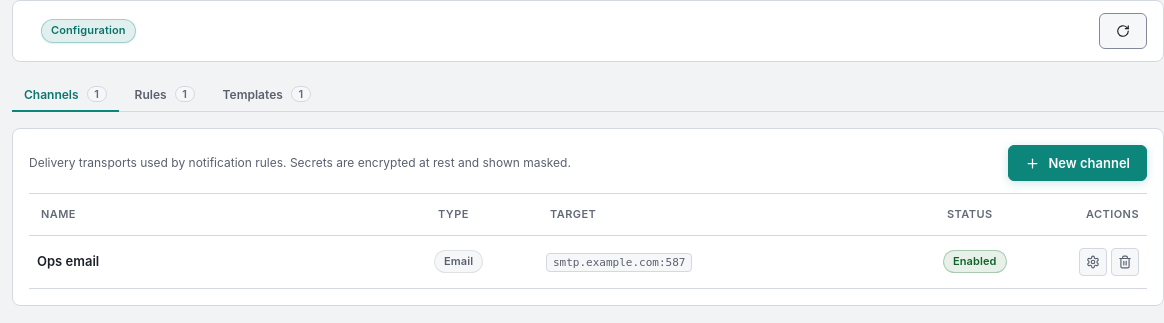
Test: NotificationConfig.vue › loads channels, rules and templates from the three list endpoints
Click the tab with class "cfg-tab" showing "Rules 1" at [165, 95], box [123,78,207,112]
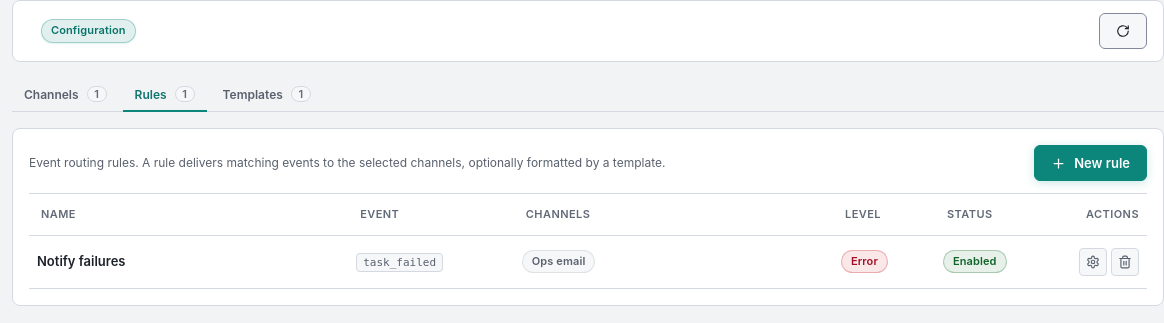
Expected: the text "Notify failures" is shown, [37,253,126,269]
Click the tab with class "cfg-tab" showing "Templates 1" at [267, 95], box [211,78,323,112]
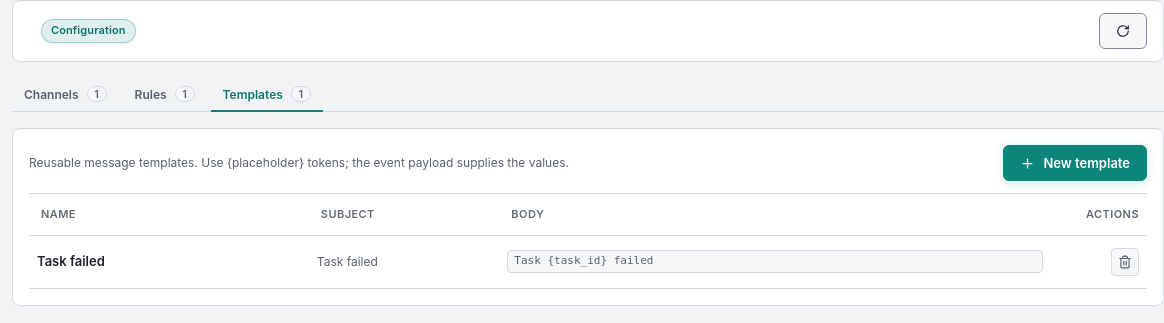
Expected: the text "Task failed" is shown, [37,253,105,269]
